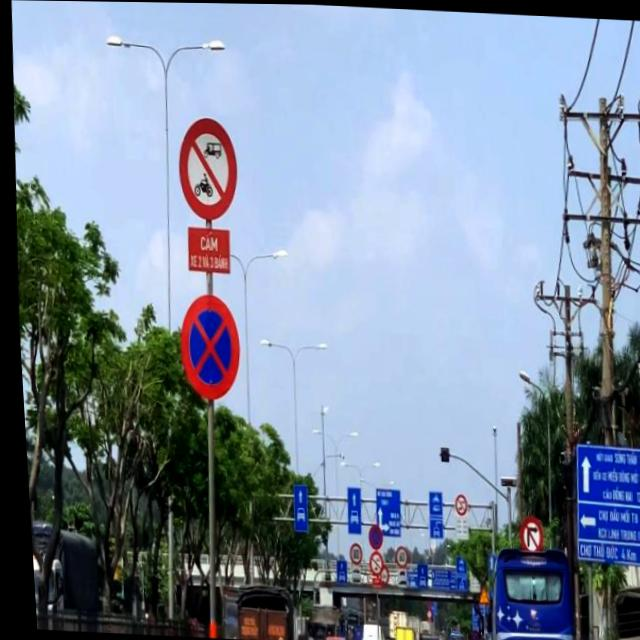Cam dung xe va do xe: (172, 291, 239, 400), (361, 522, 377, 549), (463, 630, 471, 640)
Cam re phai: (511, 514, 538, 556)
Chieu cao an toan: (470, 585, 481, 602)
Toc do toi da cho phep: (387, 543, 402, 567), (341, 541, 356, 564)
